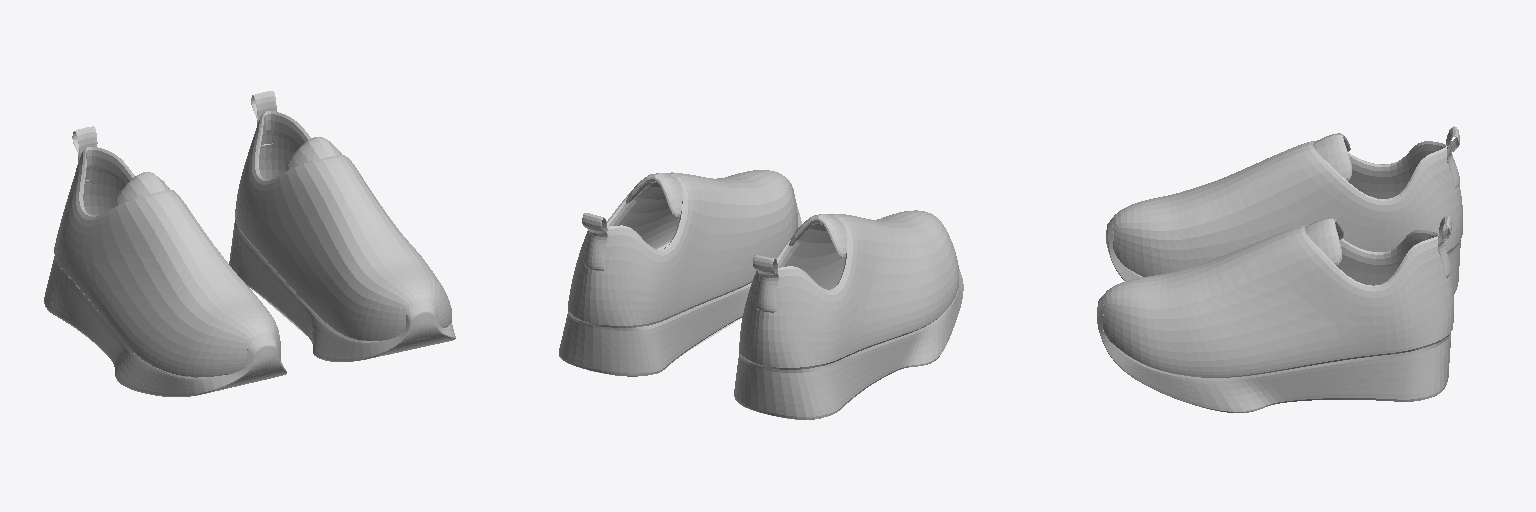
File: shoe.obj
3 views of the same model, side by side, from view 1: azimuth 30°, elevation 25°; view 2: azimuth 150°, elevation 25°; view 3: azimuth 270°, elevation 25° (orthographic).
Visible parts, largest first — view 1: shoe_Cube.002, shoe.001_Cube.001; view 2: shoe_Cube.002, shoe.001_Cube.001; view 3: shoe.001_Cube.001, shoe_Cube.002.
Part boxes in pixels (x1,y1,x2,y2): shoe_Cube.002: (44,126,286,396); shoe.001_Cube.001: (229,91,455,361); shoe_Cube.002: (734,210,963,419); shoe.001_Cube.001: (559,170,801,376); shoe.001_Cube.001: (1097,216,1453,412); shoe_Cube.002: (1106,126,1462,294).
Bounding box in the file's own units: 8.64 × 4.59 × 9.04.